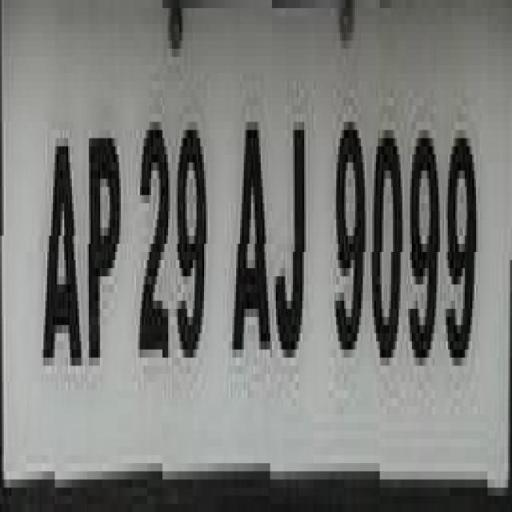number plate: (21, 0, 512, 496)
